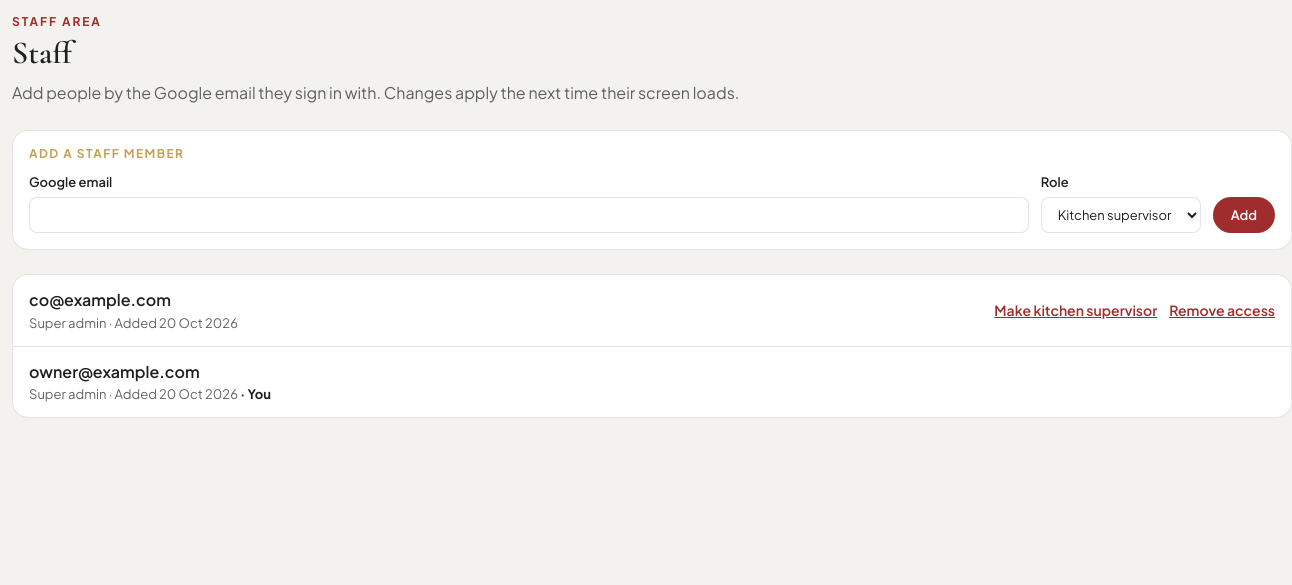
Test case: AdminStaffView › explains a refused change on that row
Click the button with test id "deactivate" at (1222,310), box [1169,301,1275,319]
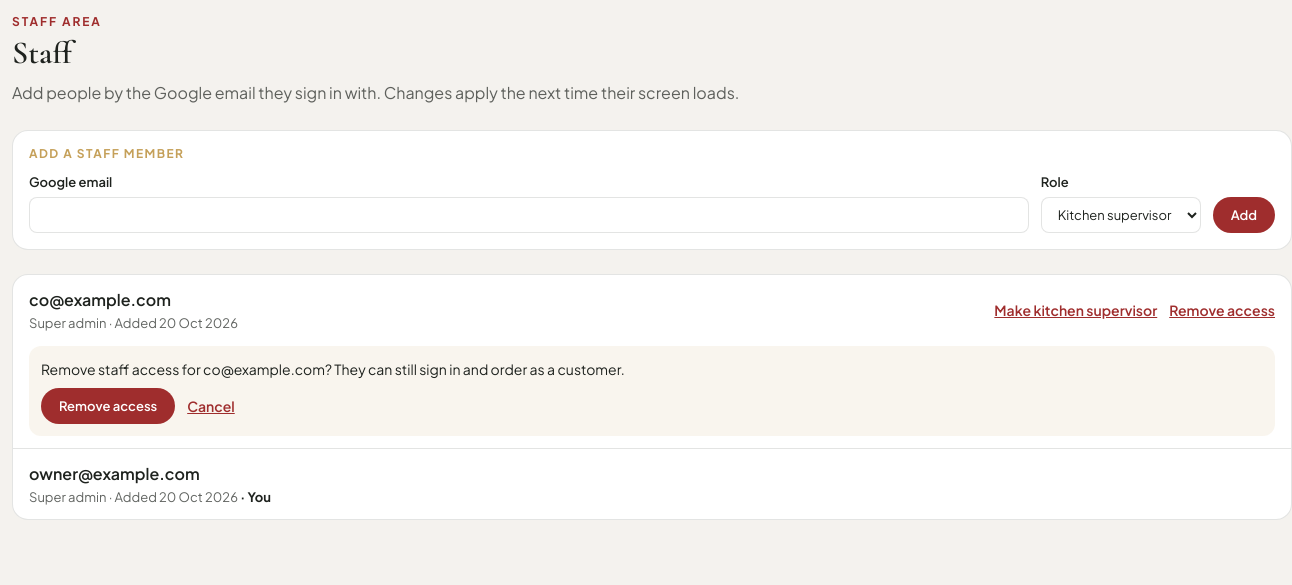
Click the button with test id "confirm-yes" at (108,406), box [41,388,175,424]
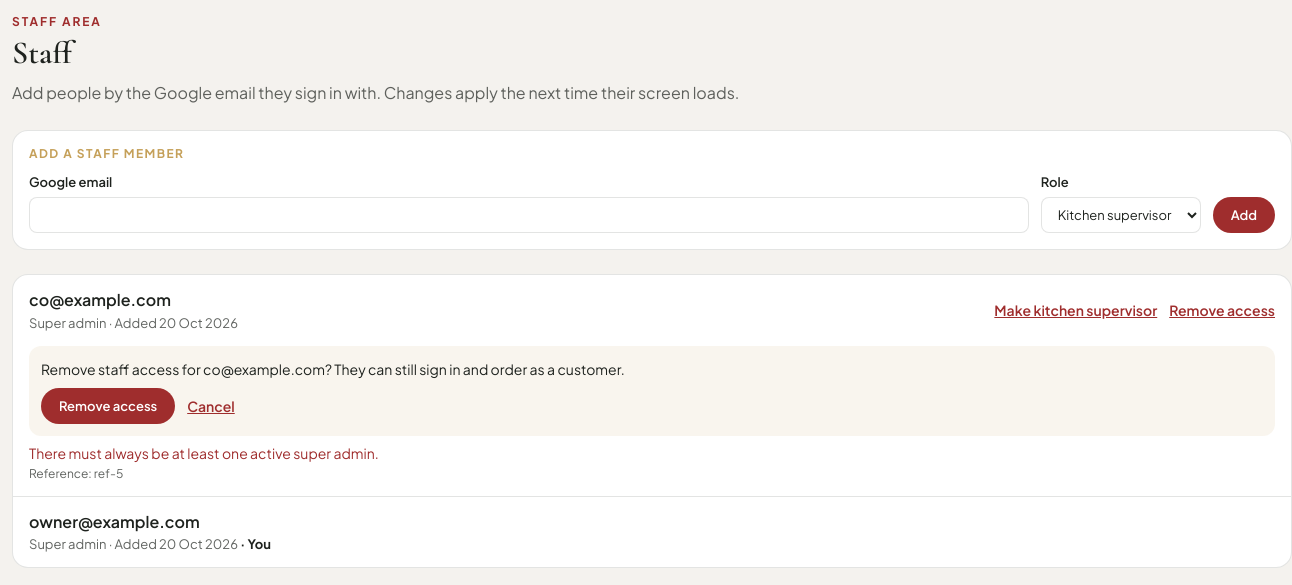
Expected: the list item with test id "staff" shows "Super admin", [29,315,238,331]
Expected: the message "There must always be at least one active super admin. Reference: ref-5" is shown, [29,444,379,481]
